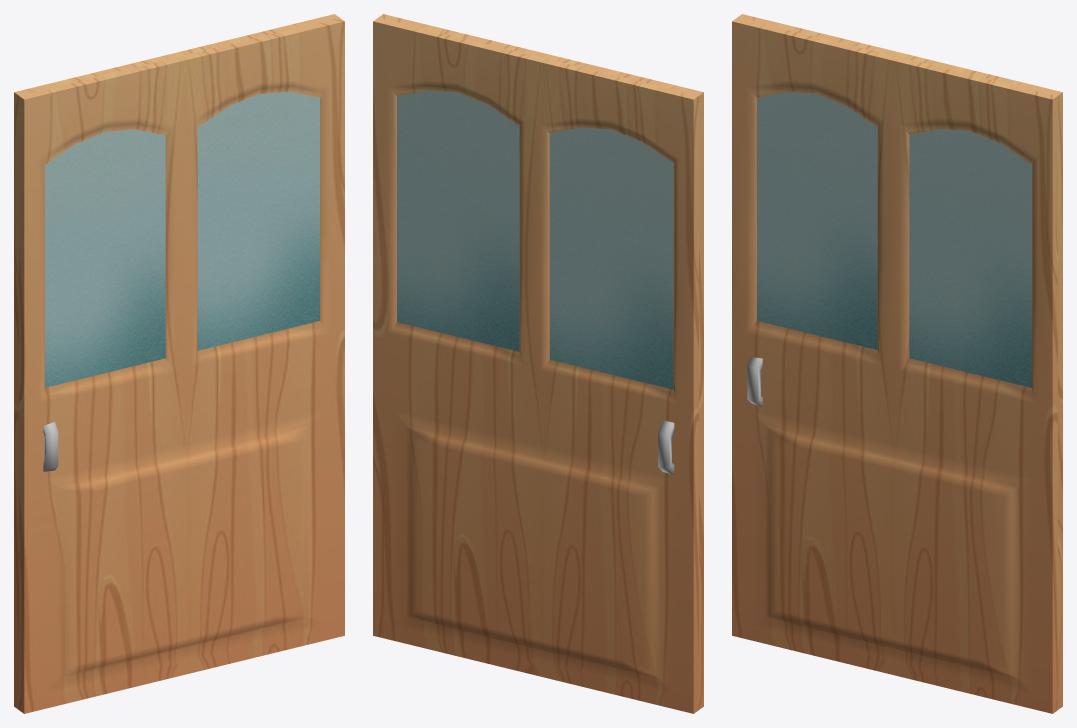
File: Kitchen_Door_Collider.fbx
3 views of the same model, side by side, from view 1: azimuth 30°, elevation 25°; view 2: azimuth 150°, elevation 25°; view 3: azimuth 330°, elevation 25° (orthographic).
Visible parts, largest first — view 1: Kitchen_Door_Collider; view 2: Kitchen_Door_Collider; view 3: Kitchen_Door_Collider.
Part boxes in pixels (x1=…): Kitchen_Door_Collider: x1=14, y1=14, x2=344, y2=713; Kitchen_Door_Collider: x1=373, y1=14, x2=703, y2=713; Kitchen_Door_Collider: x1=732, y1=14, x2=1062, y2=713.
Bounding box in the file's own units: 258 × 472 × 26.91.
